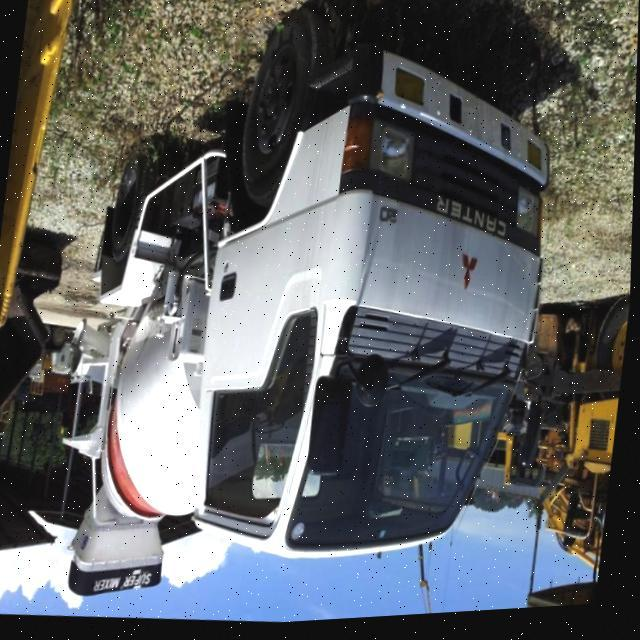truck: (59, 0, 586, 636)
